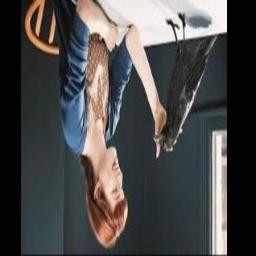Crow: (152, 12, 217, 149)
